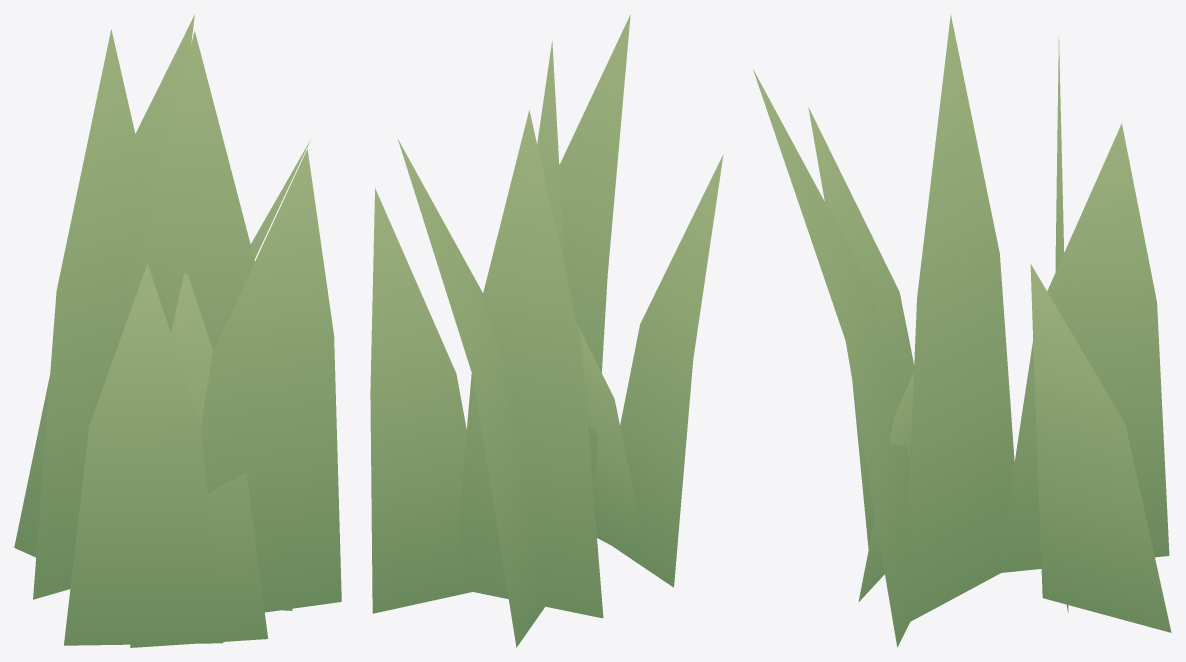
Rendered from grass_short.glb.
The picture shows the model from 3 angles, left to right: view 1: azimuth 30°, elevation 25°; view 2: azimuth 150°, elevation 25°; view 3: azimuth 270°, elevation 25°; orthographic projection. The views are drawn at different scales.
Visible parts, largest first — view 1: grass_short; view 2: grass_short; view 3: grass_short.
Boxes of the visible parts, <box> form: grass_short: <box>14,14,341,647</box>; grass_short: <box>370,14,723,647</box>; grass_short: <box>753,14,1171,647</box>.
Size of the model in its own units: 0.1764 by 0.3367 by 0.2221.
